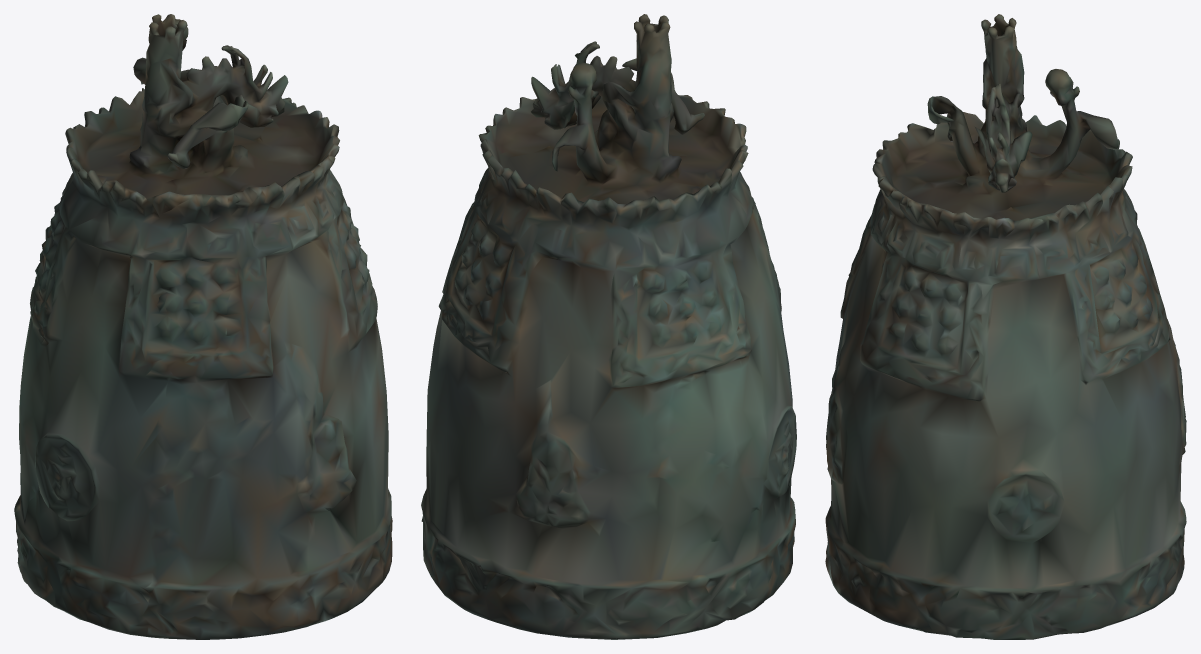
File: bell.glb
3 views of the same model, side by side, from view 1: azimuth 30°, elevation 25°; view 2: azimuth 150°, elevation 25°; view 3: azimuth 270°, elevation 25° (orthographic). The views are drawn at different scales.
Visible parts, largest first — view 1: body; view 2: body; view 3: body.
Part boxes in pixels (x1,y1,x2,y2): body: (14,14,392,639); body: (421,14,796,639); body: (825,14,1186,639).
Size of what is drawn, in the model's own units: 1.24 by 2 by 1.23.
